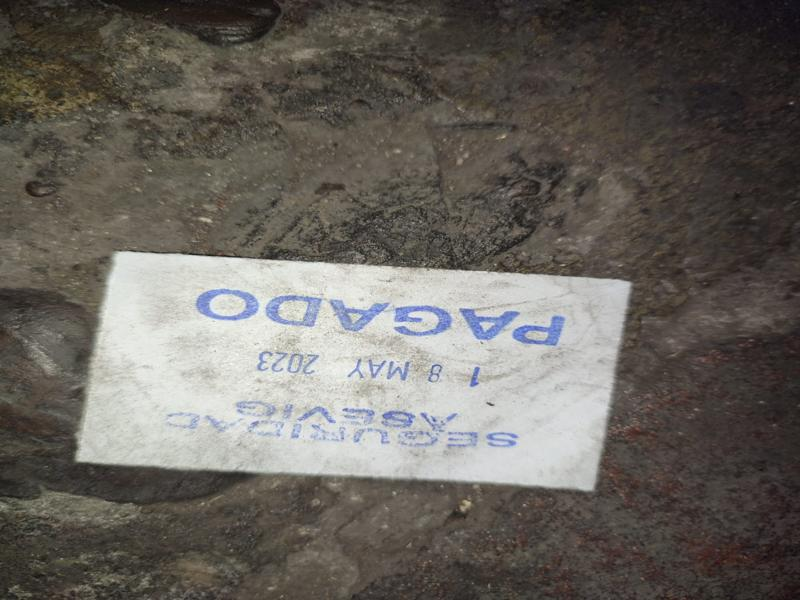papel: (73, 252, 634, 496)
